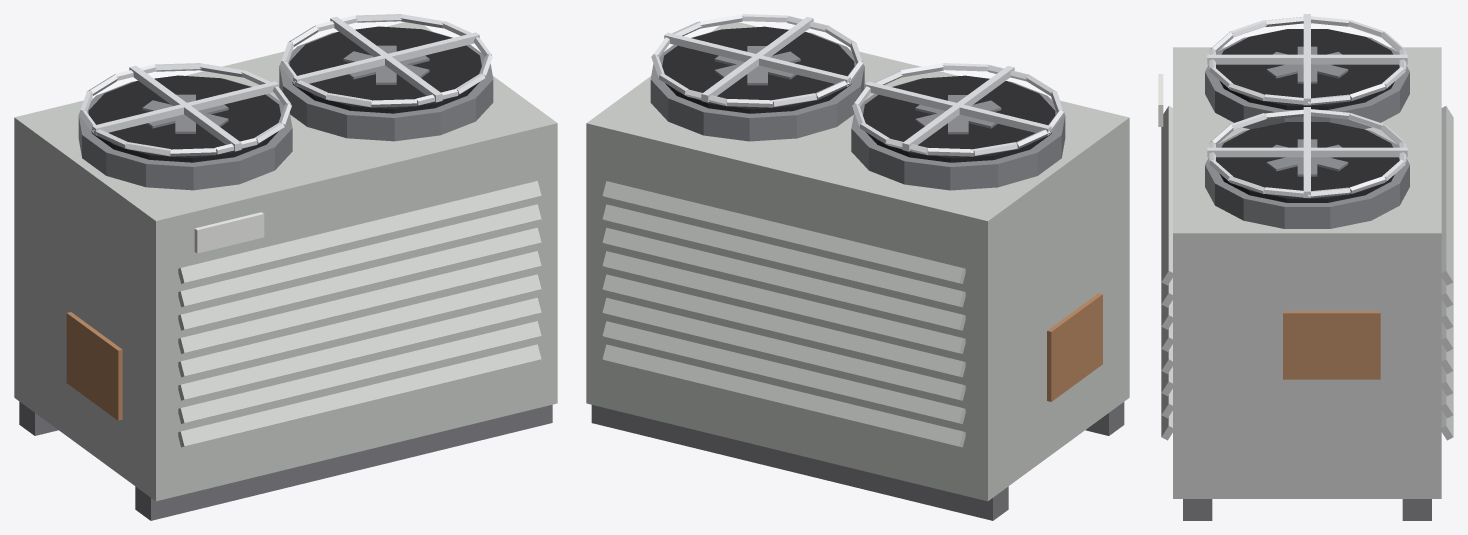
Rendered from HJ_AireAcondicionado.fbx.
The picture shows the model from 3 angles, left to right: view 1: azimuth 30°, elevation 25°; view 2: azimuth 150°, elevation 25°; view 3: azimuth 270°, elevation 25°; orthographic projection. The views are drawn at different scales.
Parts seen in each view (by area): view 1: HJ_AireAcondicionado; view 2: HJ_AireAcondicionado; view 3: HJ_AireAcondicionado.
Boxes of the visible parts, x1=… form: HJ_AireAcondicionado: x1=14, y1=14, x2=557, y2=520; HJ_AireAcondicionado: x1=586, y1=14, x2=1129, y2=520; HJ_AireAcondicionado: x1=1158, y1=14, x2=1453, y2=520.
Bounding box in the file's own units: 1.85 × 1.47 × 1.21.
